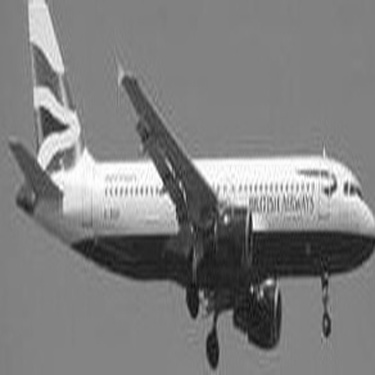airplane: (9, 1, 361, 352)
